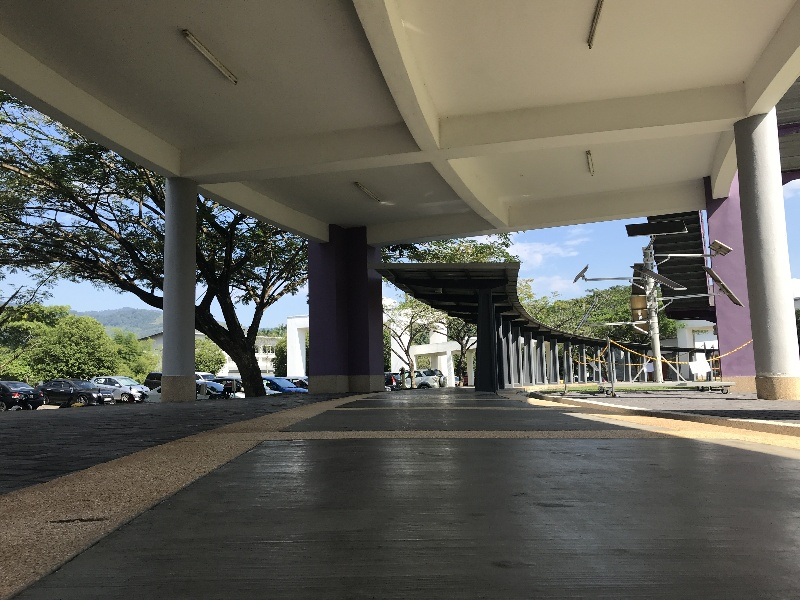pillar: (714, 106, 800, 430), (288, 218, 387, 402), (152, 167, 202, 413), (467, 287, 506, 399)
